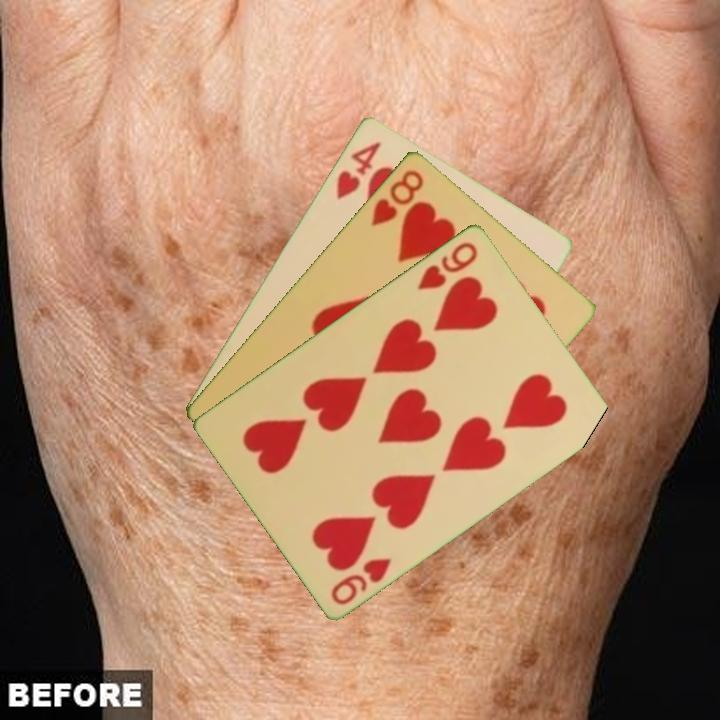4h: (332, 137, 384, 203)
8h: (367, 165, 427, 229)
9h: (413, 237, 481, 293), (327, 553, 395, 608)
